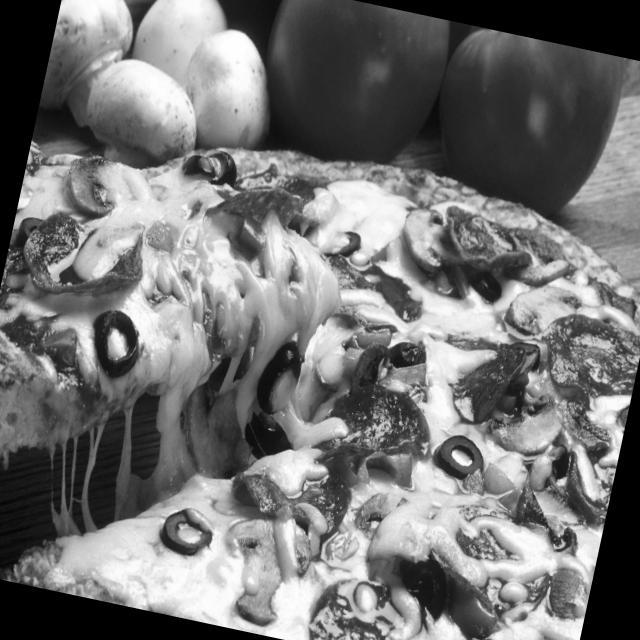pizza: (0, 107, 639, 639)
